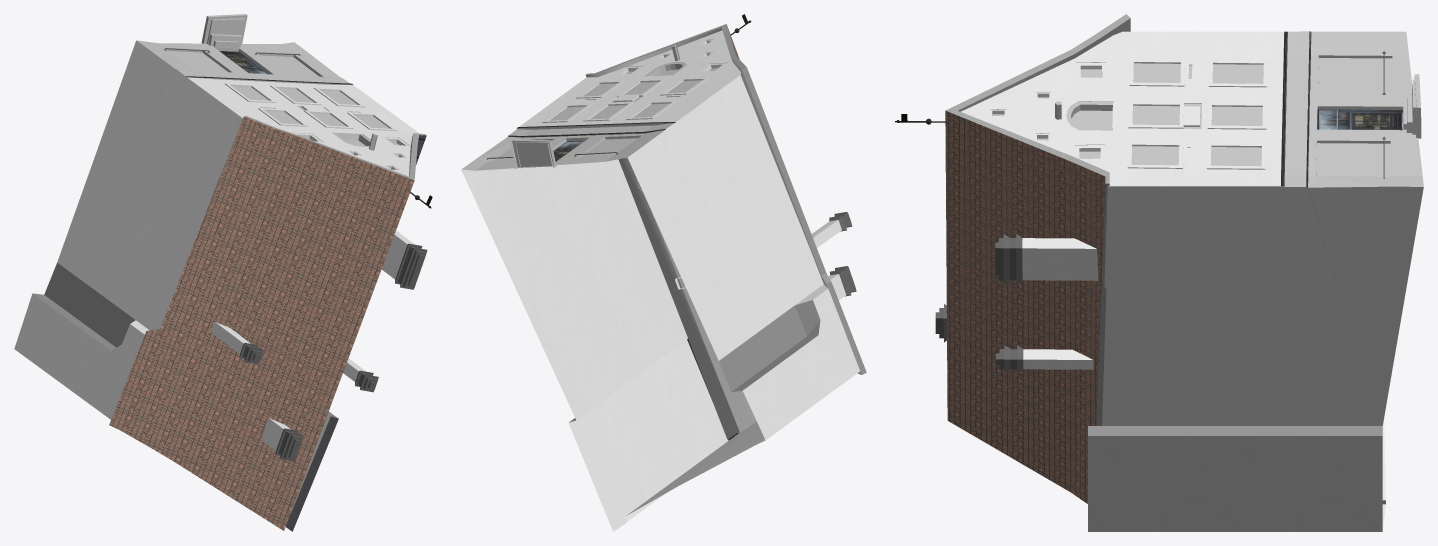
The model's file is Vanaturukael_8.obj.
The picture shows the model from 3 angles, left to right: view 1: azimuth 30°, elevation 25°; view 2: azimuth 150°, elevation 25°; view 3: azimuth 270°, elevation 25°; orthographic projection. The views are drawn at different scales.
Visible parts, largest first — view 1: Vanaturukael_8; view 2: Vanaturukael_8; view 3: Vanaturukael_8.
Boxes of the visible parts, x1,y1,x2,y2 form: Vanaturukael_8: [14, 14, 432, 531]; Vanaturukael_8: [461, 14, 866, 531]; Vanaturukael_8: [895, 14, 1423, 531].
Bounding box in the file's own units: 17.93 × 23.24 × 22.34.
